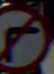Don't turn right: (1, 4, 46, 73)
